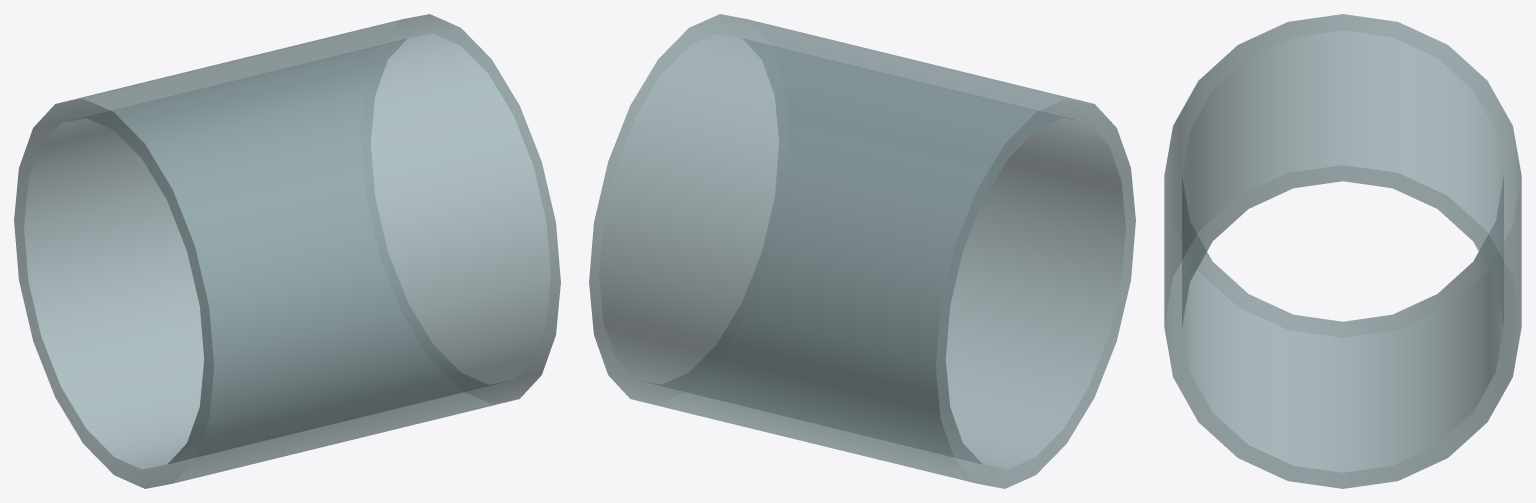
File: Tube_Small1.fbx
3 renders of one model, left to right at view 1: azimuth 30°, elevation 25°; view 2: azimuth 150°, elevation 25°; view 3: azimuth 270°, elevation 25°, orthographic. The views are drawn at different scales.
Visible parts, largest first — view 1: Tube_Small1; view 2: Tube_Small1; view 3: Tube_Small1.
Boxes of the visible parts, <box> form: Tube_Small1: <box>14,14,560,488</box>; Tube_Small1: <box>589,14,1135,488</box>; Tube_Small1: <box>1164,14,1521,488</box>.
Bounding box in the file's own units: 2 × 2 × 2.
